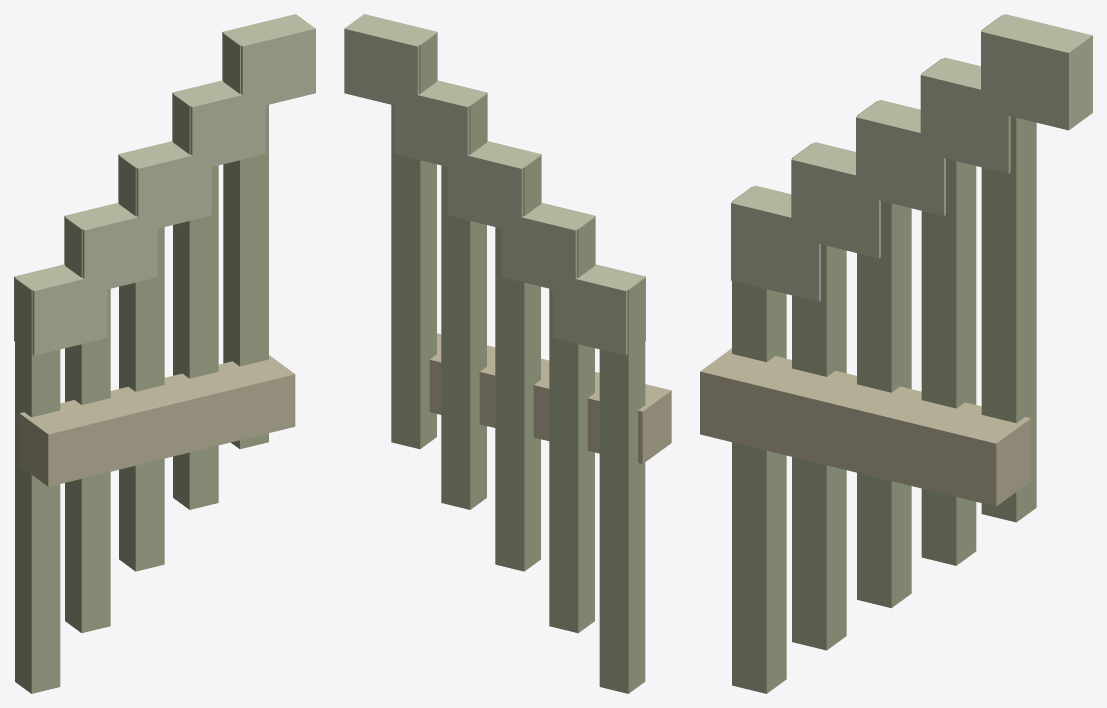
Rendered from material_fiber.glb.
3 renders of one model, left to right at view 1: azimuth 30°, elevation 25°; view 2: azimuth 150°, elevation 25°; view 3: azimuth 330°, elevation 25°, orthographic. The views are drawn at different scales.
Parts seen in each view (by area): view 1: material_fiber; view 2: material_fiber; view 3: material_fiber.
Part boxes in pixels (x1=…): material_fiber: x1=14, y1=14, x2=315, y2=693; material_fiber: x1=344, y1=14, x2=671, y2=693; material_fiber: x1=700, y1=14, x2=1092, y2=693.
Size of the model in its own units: 0.745 by 1.48 by 0.18.
